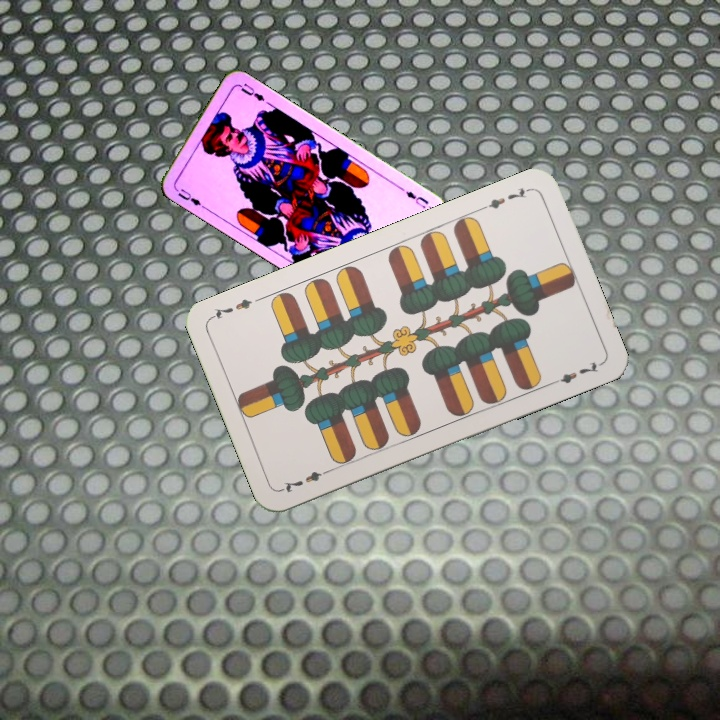E7: (277, 464, 334, 496), (477, 183, 534, 213)
EU: (171, 184, 204, 208), (402, 187, 431, 211)
